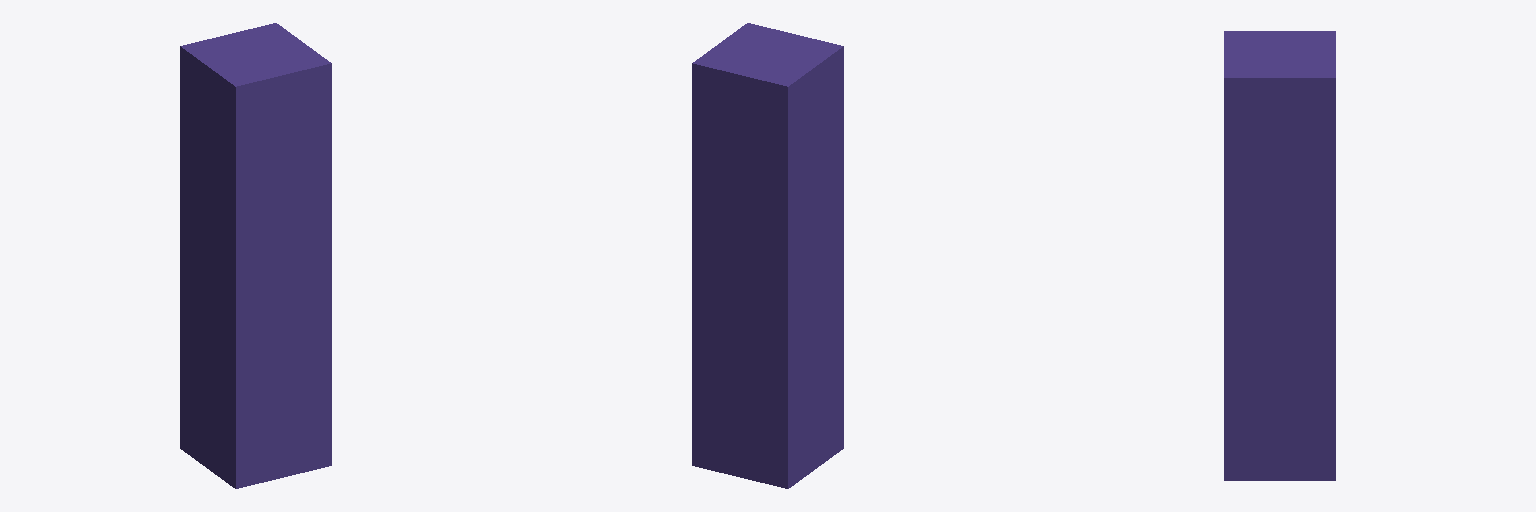
The picture shows the model from 3 angles: view 1: azimuth 30°, elevation 25°; view 2: azimuth 150°, elevation 25°; view 3: azimuth 270°, elevation 25°; orthographic projection.
Parts seen in each view (by area): view 1: PlantIKTest; view 2: PlantIKTest; view 3: PlantIKTest.
Boxes of the visible parts, x1,y1,x2,y2 form: PlantIKTest: [180, 23, 331, 488]; PlantIKTest: [692, 23, 843, 488]; PlantIKTest: [1224, 31, 1335, 480].
Size of the model in its own units: 1 by 4 by 1.
1 materials, 1 textured.